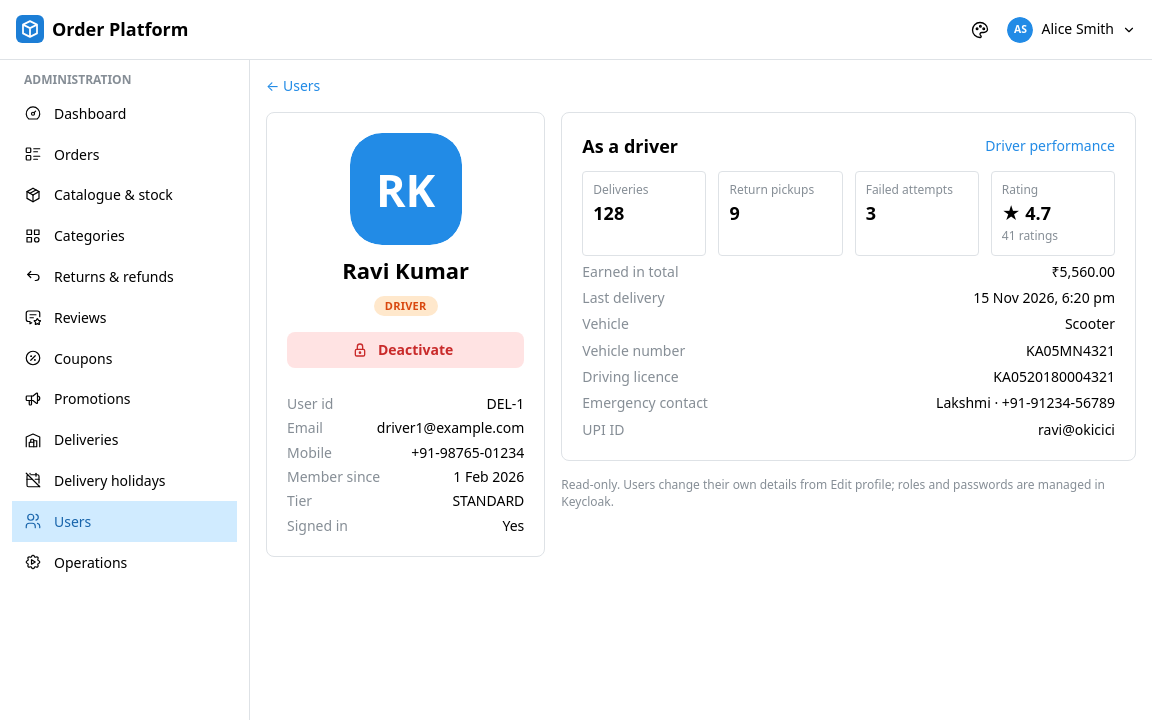
admin users › deactivates a driver with a reason, and activates them again
Click the button "Deactivate" at [406, 350], box [287,332,524,368]
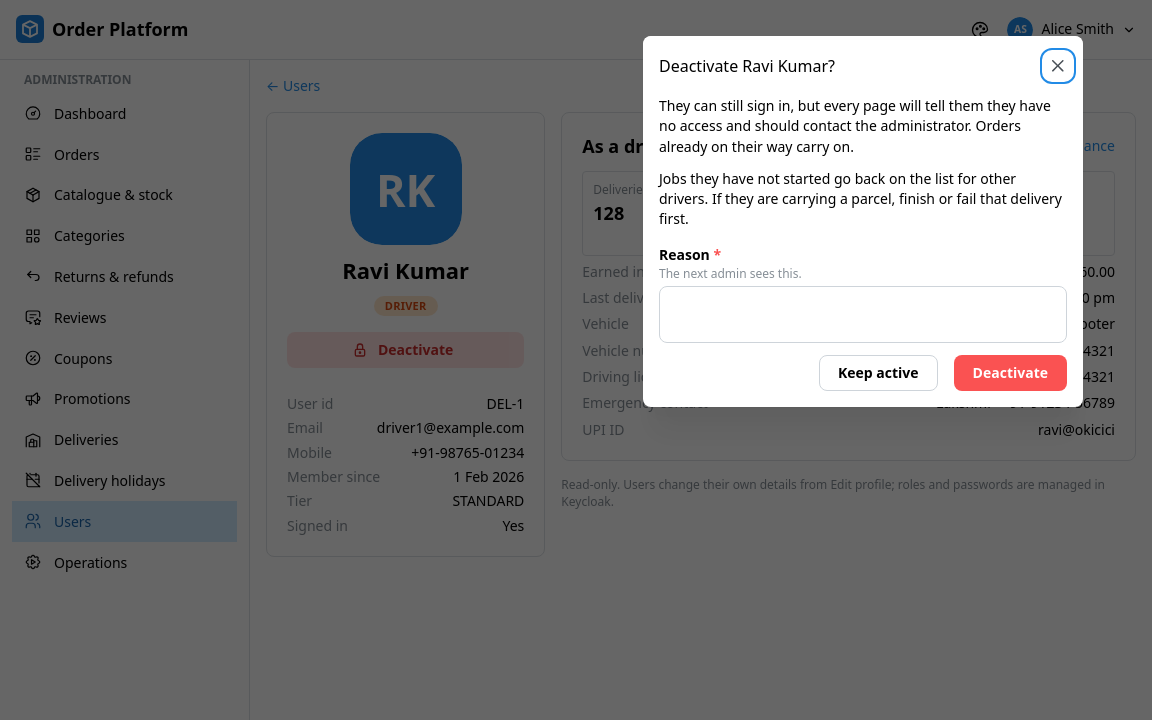
Expected: the text "Jobs they have not started go back on the list" is shown, [659,169,1062,228]
Click the button "Deactivate" at [1010, 373], box [954,355,1067,391]
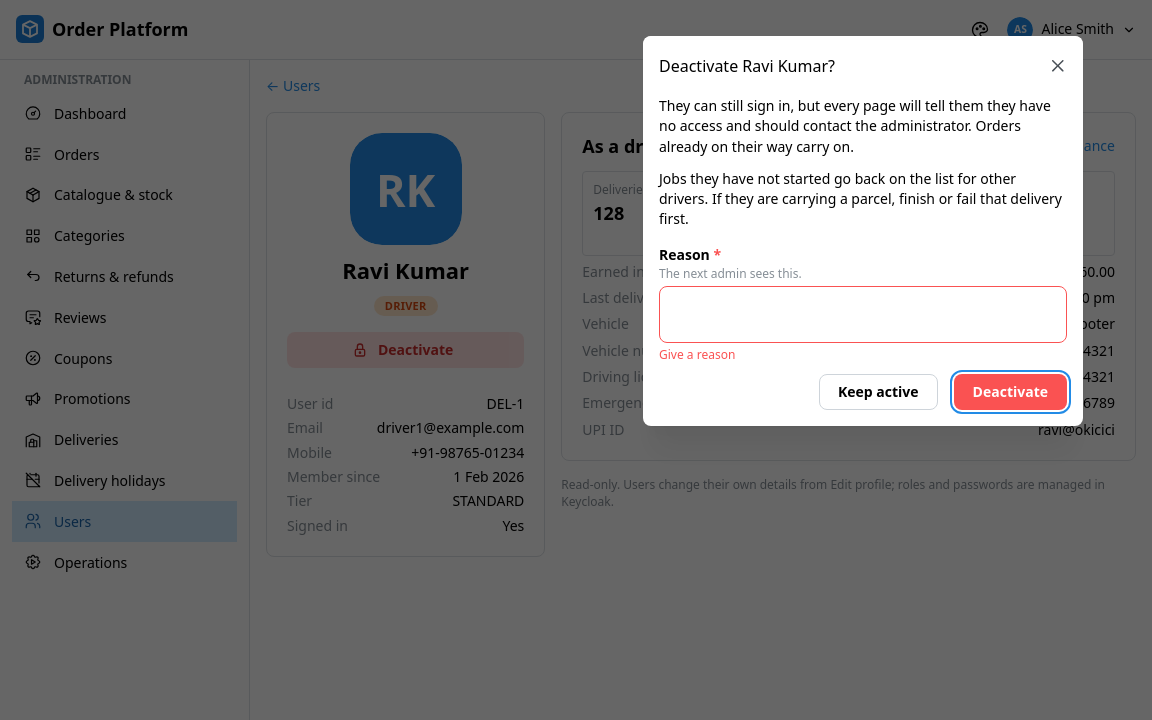
Expected: the text "Give a reason" is shown, [659,346,735,363]
Type "Licence expired" into the text box labelled "Reason *" at [863, 314], box [659,286,1067,343]
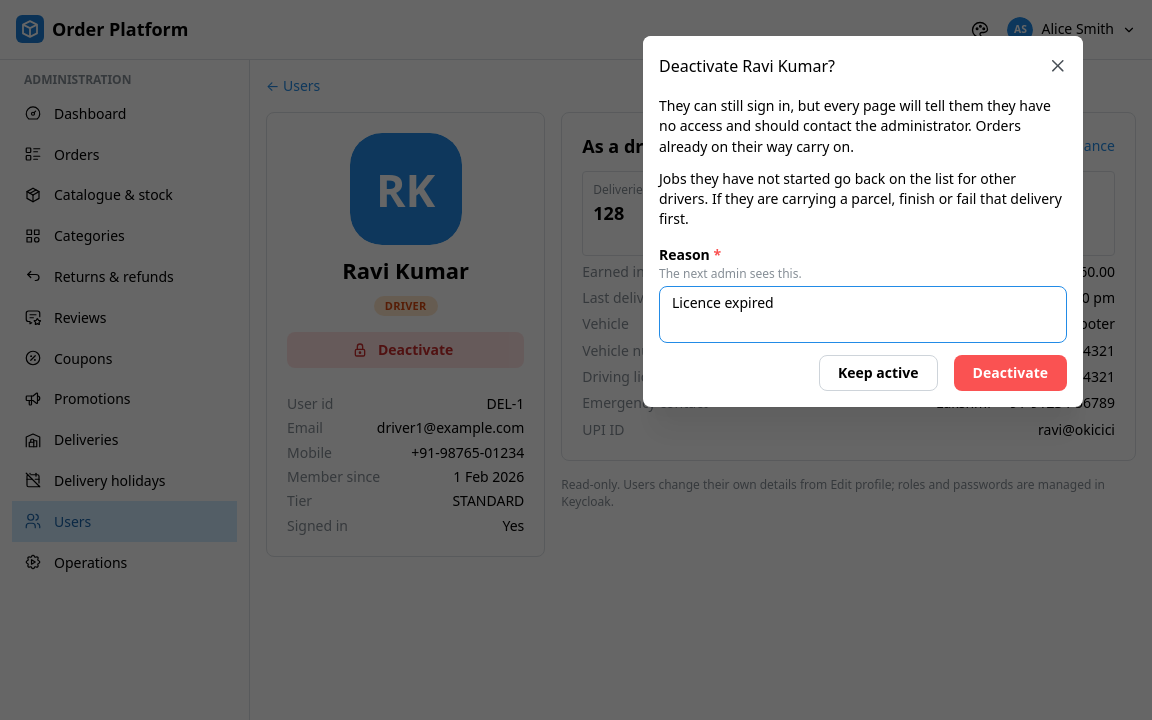
Click the button "Deactivate" at [1010, 373], box [954,355,1067,391]
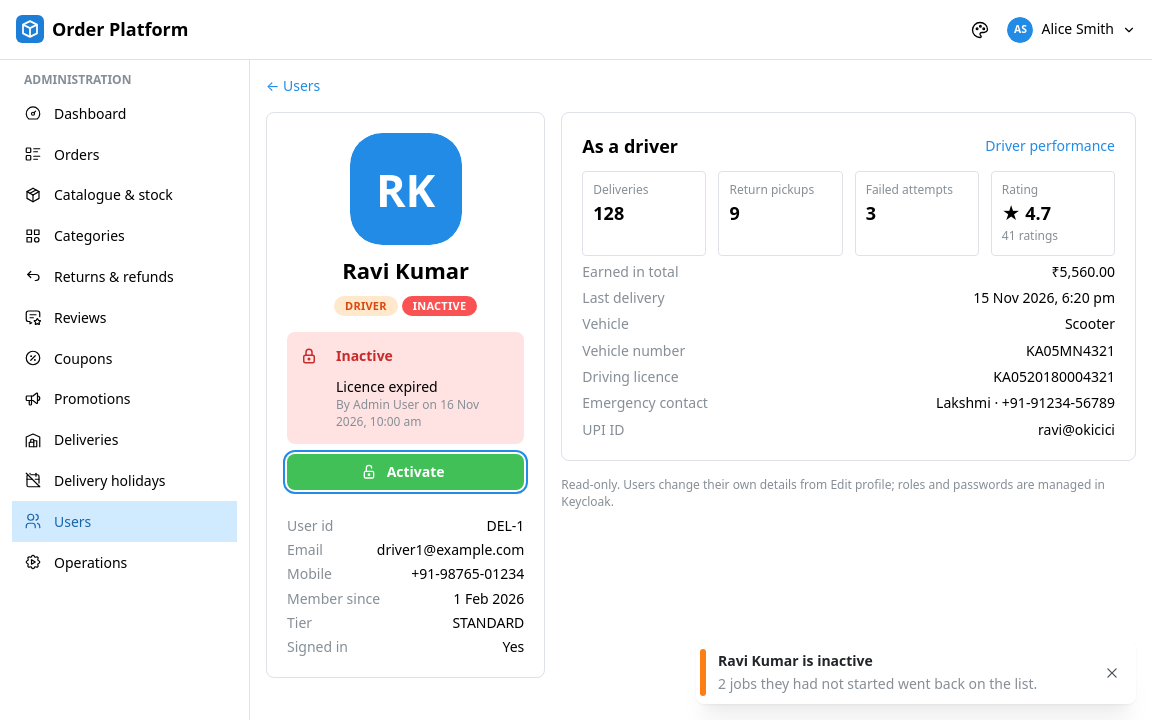
Expected: the text "2 jobs they had not started went back on the list." is shown, [718,674,1088,694]
Expected: the text "Licence expired" is shown, [336,377,438,396]
Click the button "Activate" at [406, 472], box [287,454,524,490]
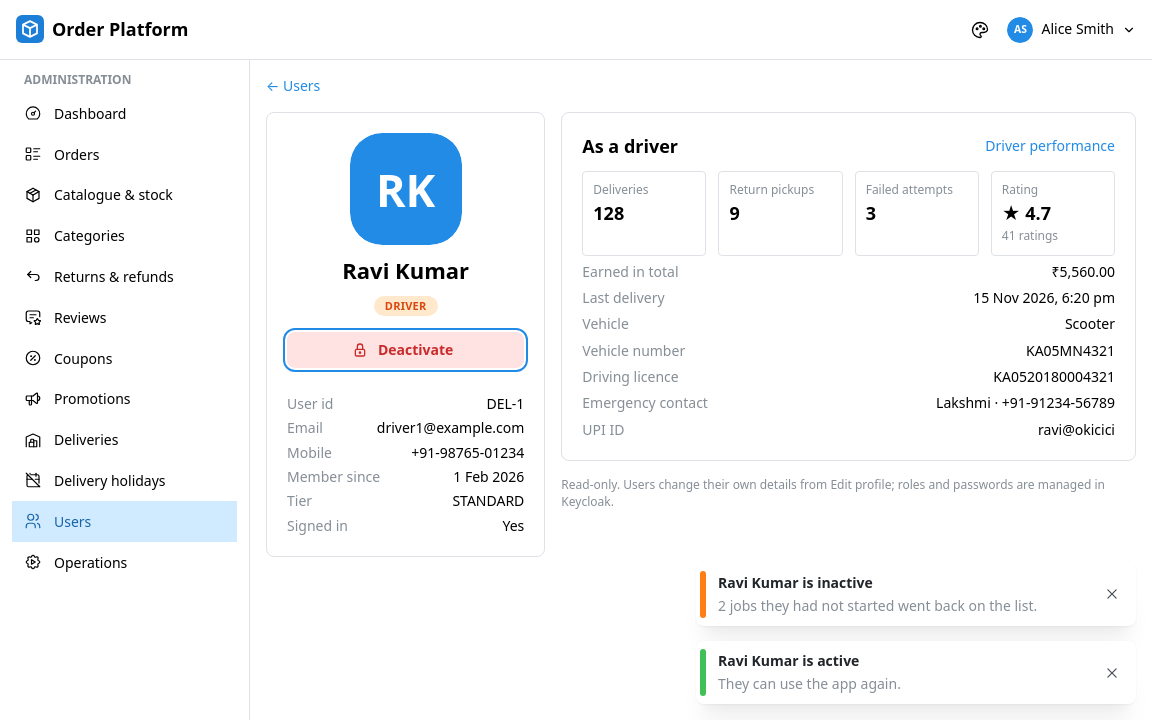
Expected: the button "Deactivate" is shown, [287,332,524,368]
